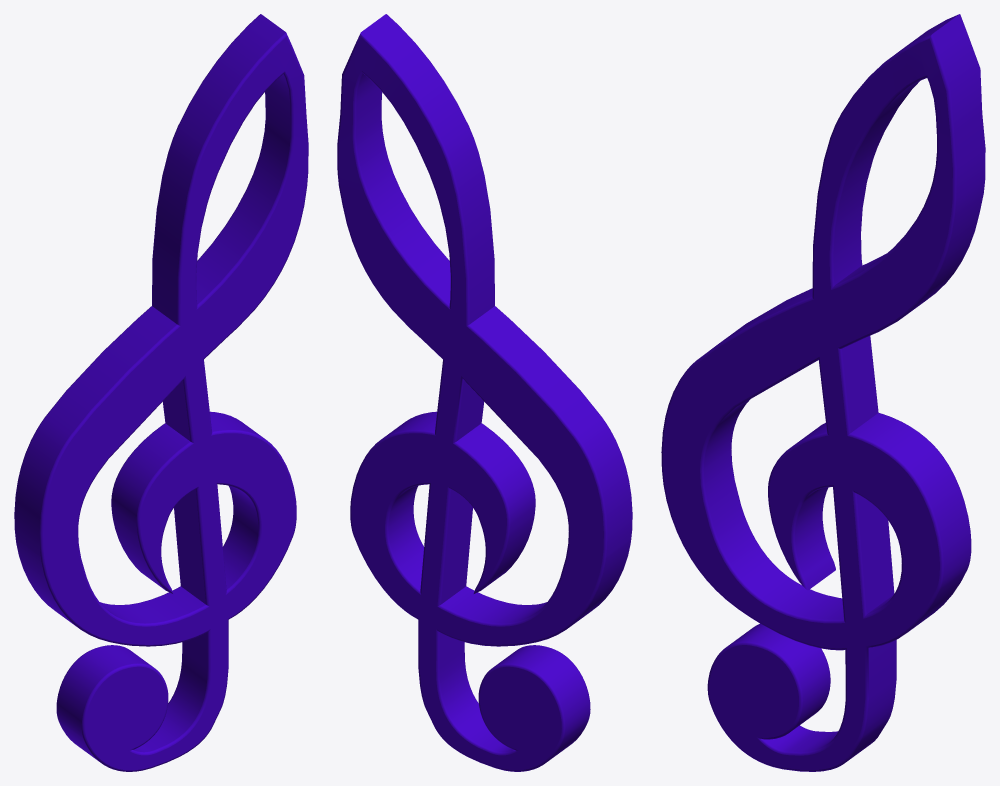
3 views of the same model, side by side, from view 1: azimuth 30°, elevation 25°; view 2: azimuth 150°, elevation 25°; view 3: azimuth 330°, elevation 25° (orthographic). The views are drawn at different scales.
Visible parts, largest first — view 1: 淘宝店铺：晨风素材; view 2: 淘宝店铺：晨风素材; view 3: 淘宝店铺：晨风素材.
Part boxes in pixels (left/top/right/bottom): 淘宝店铺：晨风素材: left=14, top=14, right=308, bottom=771; 淘宝店铺：晨风素材: left=337, top=14, right=632, bottom=771; 淘宝店铺：晨风素材: left=661, top=14, right=985, bottom=771.
Bounding box in the file's own units: 84.33 × 210 × 15.54.
